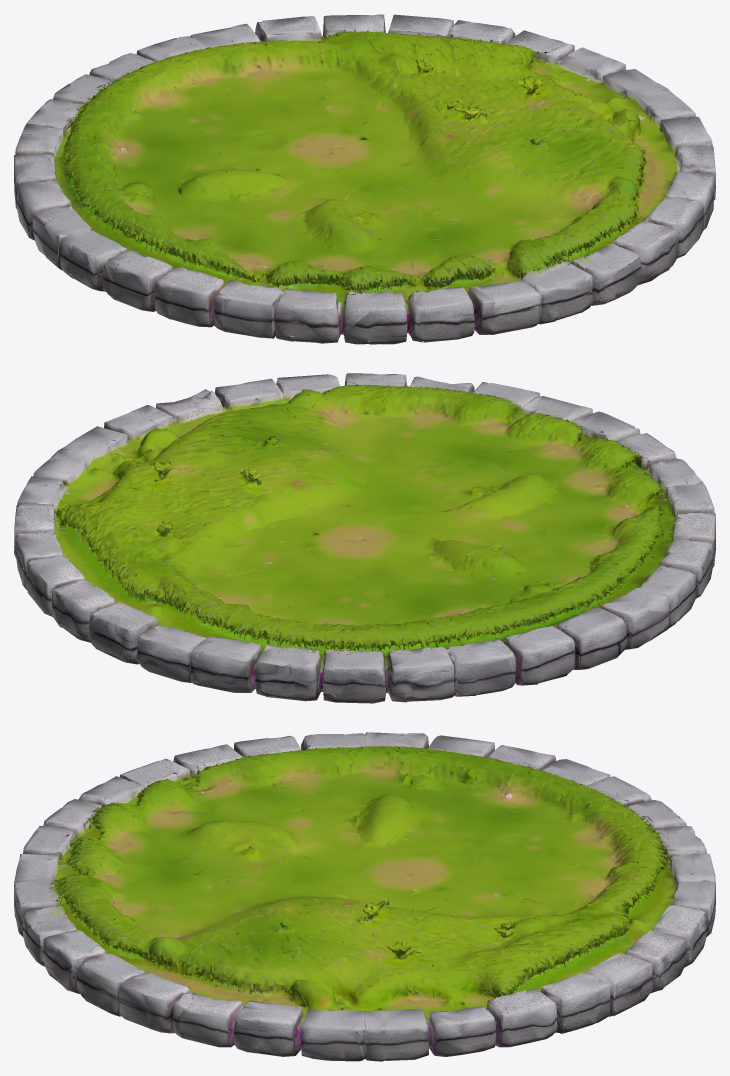
The model's file is arena-meadowfall.glb.
3 renders of one model, top to bottom at view 1: azimuth 30°, elevation 25°; view 2: azimuth 150°, elevation 25°; view 3: azimuth 270°, elevation 25°, orthographic.
Visible parts, largest first — view 1: Mesh_0; view 2: Mesh_0; view 3: Mesh_0.
Boxes of the visible parts, left/top/right/bottom form: Mesh_0: left=14, top=14, right=715, bottom=344; Mesh_0: left=14, top=373, right=715, bottom=703; Mesh_0: left=14, top=732, right=715, bottom=1061.
Size of the model in its own units: 1.9 by 0.2029 by 1.9.
1 material, 1 textured.
